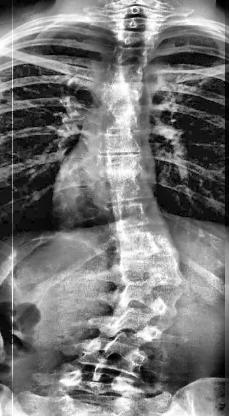Vertebrae: (77, 333, 150, 375), (61, 364, 140, 402), (116, 254, 190, 290), (113, 280, 187, 316), (105, 307, 172, 341), (112, 223, 180, 256), (101, 197, 171, 229), (92, 174, 160, 206), (92, 150, 154, 180), (86, 130, 150, 158), (92, 104, 148, 134), (97, 80, 151, 104), (100, 63, 152, 85), (108, 44, 156, 66), (113, 28, 160, 48), (115, 15, 165, 33)
